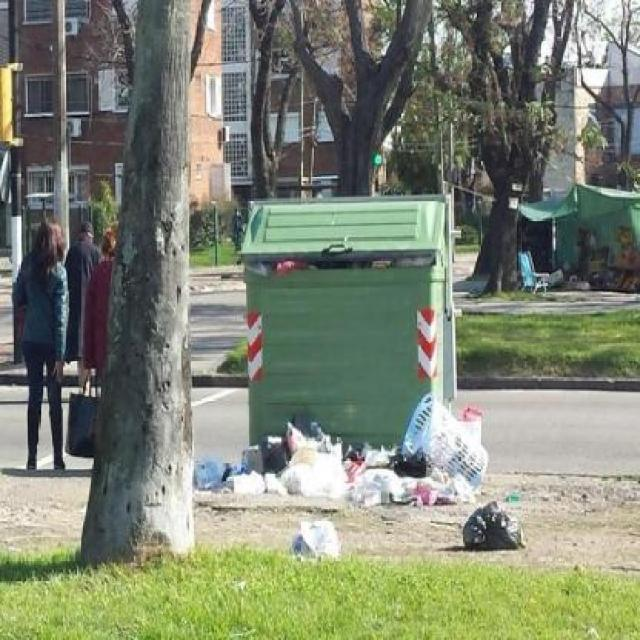garbage: (190, 403, 556, 522), (283, 514, 356, 572), (465, 506, 538, 563), (245, 260, 442, 274)
